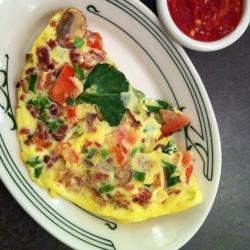ketchup: (165, 1, 246, 47)
omelette: (22, 20, 202, 227)
